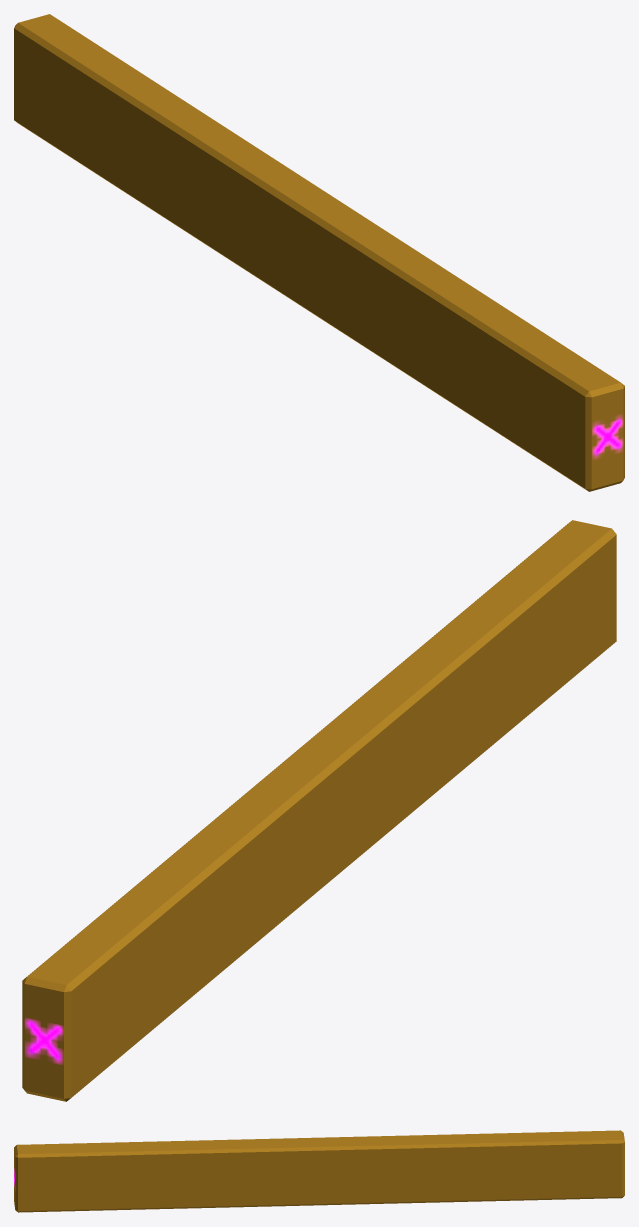
The model's file is chairSkirt.glb.
The picture shows the model from 3 angles, top to bottom: view 1: azimuth 30°, elevation 25°; view 2: azimuth 150°, elevation 25°; view 3: azimuth 270°, elevation 25°; orthographic projection. The views are drawn at different scales.
Parts seen in each view (by area): view 1: connector_right; view 2: connector_right; view 3: connector_right.
Boxes of the visible parts, x1,y1,x2,y2 form: connector_right: (14,14,624,491); connector_right: (22,520,616,1101); connector_right: (14,1130,624,1212).
Bounding box in the file's own units: 0.0335 × 0.035 × 0.332.
Materials: 1 (1 with a texture image).
